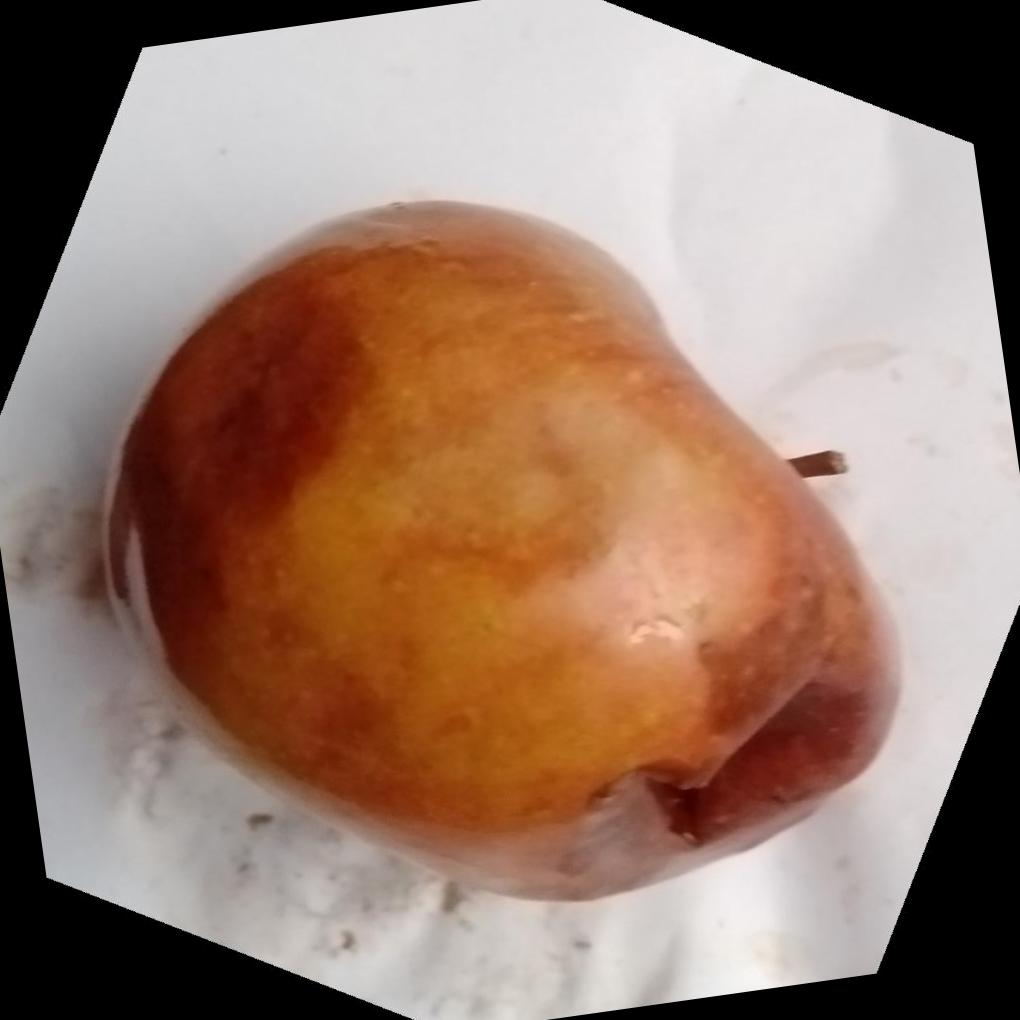FreshOrange: (104, 198, 908, 906)
